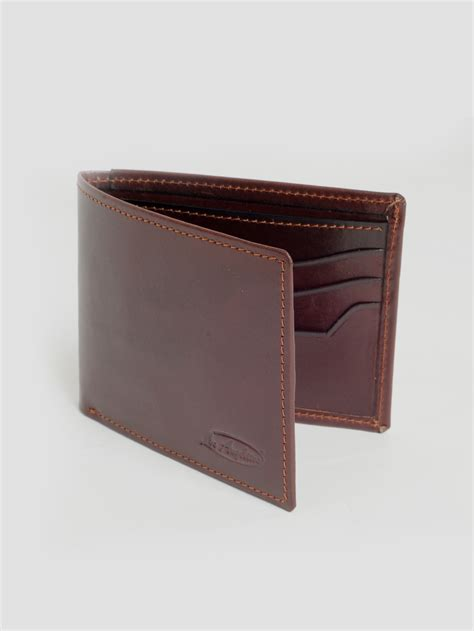cuero: (74, 166, 408, 516)
